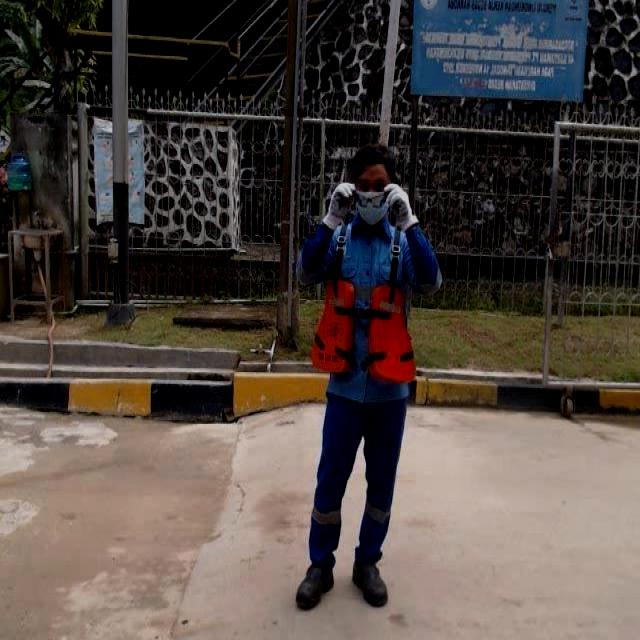vest: (312, 285, 415, 380)
